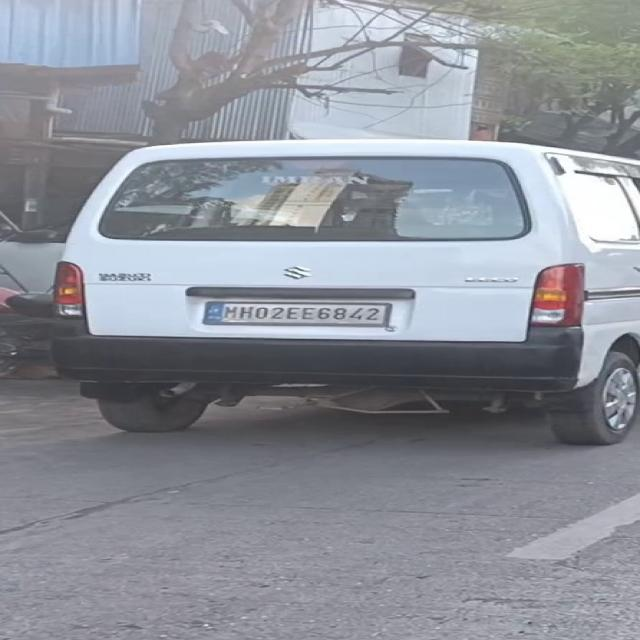Plate: (202, 300, 388, 327)
